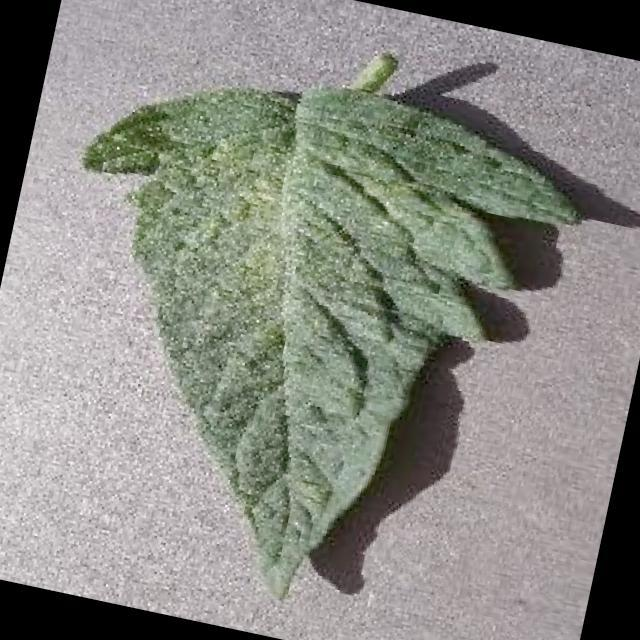Tomato spider mites leaf: (0, 36, 599, 640)
